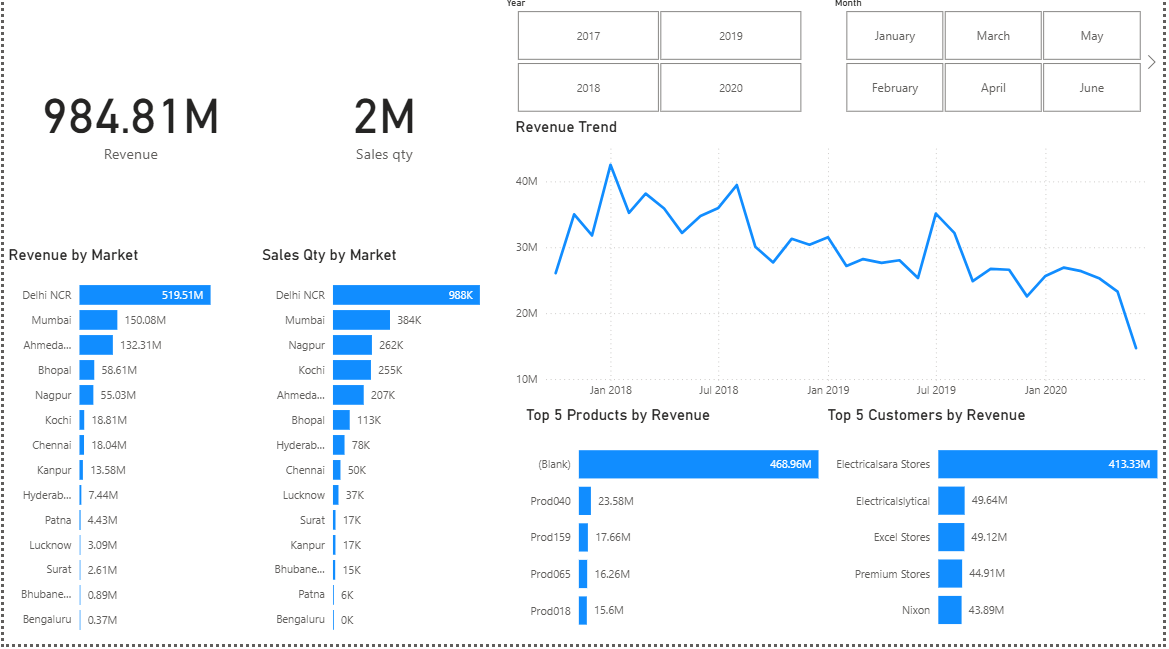

The page's visual inventory and layout, read from the dashboard file:
{"tool":"powerbi","page":{"name":"Page 1","canvas":[1280,720],"ordinal":0},"visuals":[{"type":"card","fields":{"Values":["Base Measures.Revenue"]},"box":[0,0,279.7,279.7],"z":0},{"type":"card","fields":{"Values":["Base Measures.Sales qty"]},"box":[279.7,0,279.7,279.7],"z":1000},{"type":"barChart","title":"Sales Qty by Market","fields":{"Y":["Base Measures.Sales qty"],"Category":["sales markets.markets_name"]},"box":[279.7,279.7,279.7,440.3],"z":2000},{"type":"slicer","fields":{"Values":["sales transactions.order_date.Variation.Date Hierarchy.Year"]},"box":[541.7,0,362.8,139.1],"z":3000},{"type":"slicer","fields":{"Values":["sales transactions.order_date.Variation.Date Hierarchy.Month"]},"box":[904.4,0,374.4,139.1],"z":4000},{"type":"barChart","title":"Revenue by Market","fields":{"Y":["Base Measures.Revenue"],"Category":["sales markets.markets_name"]},"box":[0,279.7,279.7,440.3],"z":5000},{"type":"barChart","title":"Top 5 Products by Revenue","fields":{"Y":["Base Measures.Revenue"],"Category":["sales products.product_code"]},"box":[571.5,457.2,333,263.4],"z":6000},{"type":"barChart","title":"Top 5 Customers by Revenue","fields":{"Y":["Base Measures.Revenue"],"Category":["sales customers.custmer_name"]},"box":[905.2,457.3,374.2,262.7],"z":7000},{"type":"lineChart","title":"Revenue Trend","fields":{"Category":["sales transactions.order_date.Variation.Date Hierarchy.Year","sales transactions.order_date.Variation.Date Hierarchy.Month"],"Y":["Base Measures.Revenue"]},"box":[559.9,139.1,718.9,318],"z":8000}]}

Visuals, with their boxes in screenshot pixels (x1, y1, x2, y2), scaled from the page's 1280x720 canvas onto the 1169x649 screenshot:
card - Base Measures.Revenue: (0,0,255,252)
card - Base Measures.Sales qty: (255,0,511,252)
"Sales Qty by Market" barChart: (255,252,511,648)
slicer - sales transactions.order_date.Variation.Date Hierarchy.Year: (495,0,826,125)
slicer - sales transactions.order_date.Variation.Date Hierarchy.Month: (826,0,1168,125)
"Revenue by Market" barChart: (0,252,255,648)
"Top 5 Products by Revenue" barChart: (522,412,826,648)
"Top 5 Customers by Revenue" barChart: (827,412,1168,648)
"Revenue Trend" lineChart: (511,125,1168,412)
